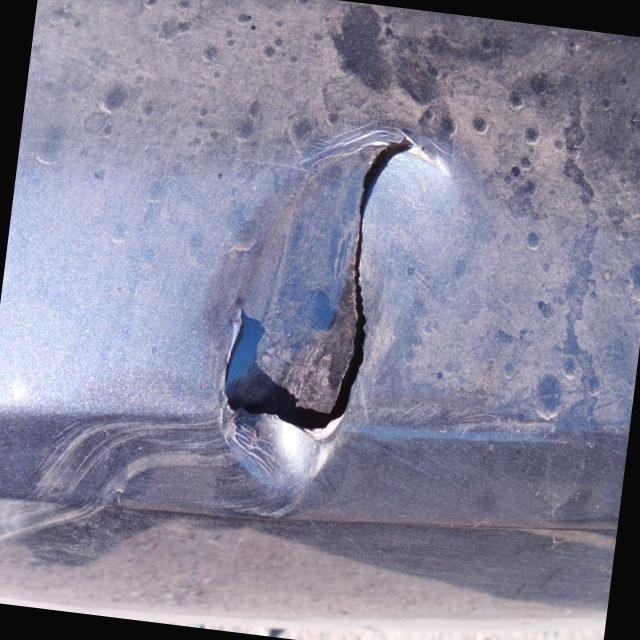Dechirure: (213, 107, 420, 445)
Rayure: (45, 399, 292, 521)
